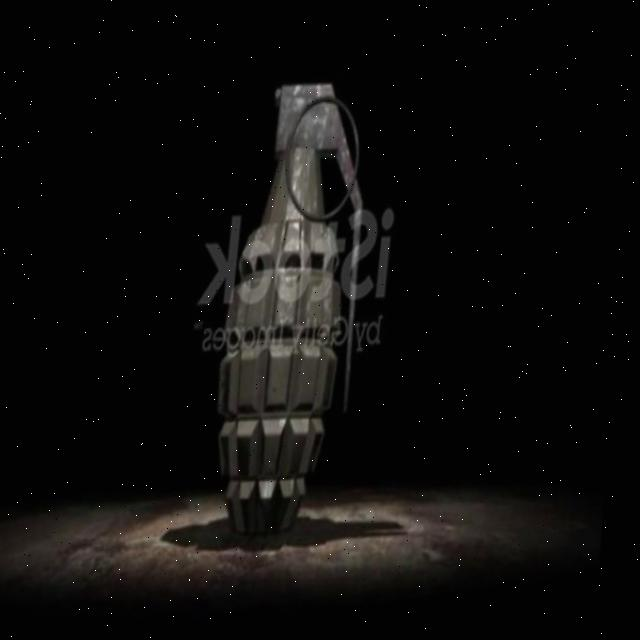grenade: (169, 66, 416, 568)
